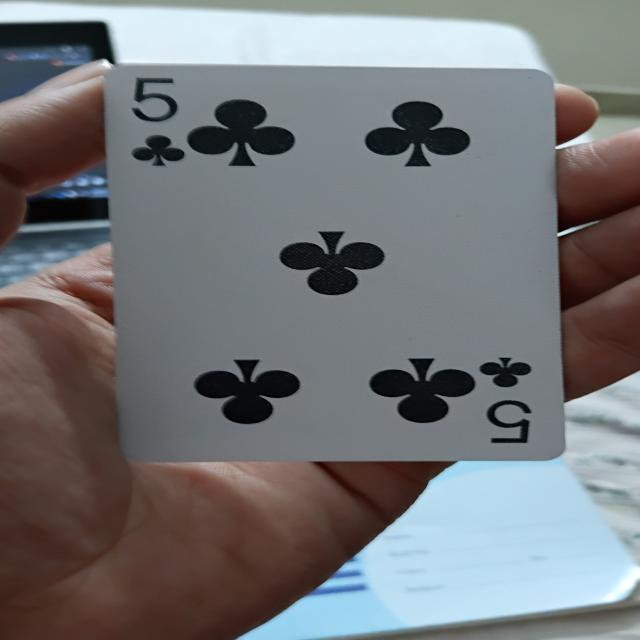5C: (84, 52, 577, 464)
